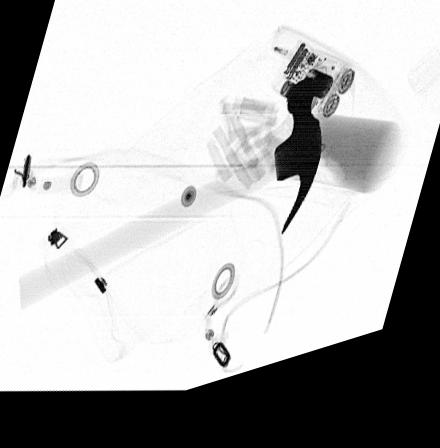Hammer: (18, 95, 322, 310)
